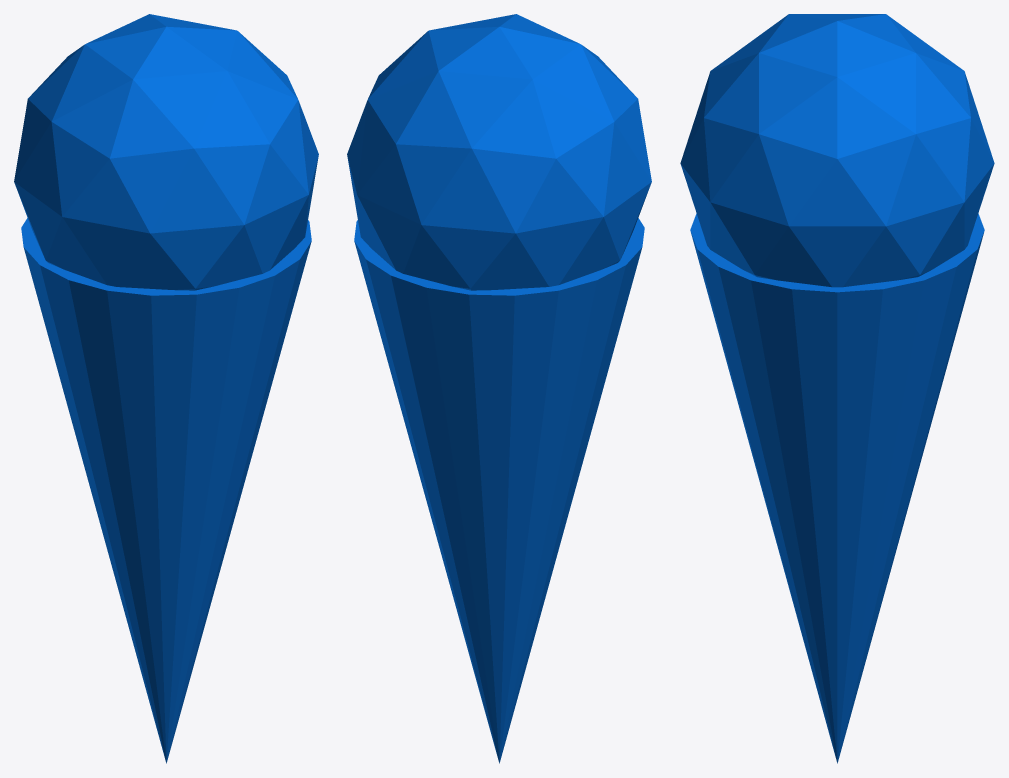
The model's file is marker.glb.
The picture shows the model from 3 angles, left to right: view 1: azimuth 30°, elevation 25°; view 2: azimuth 150°, elevation 25°; view 3: azimuth 270°, elevation 25°; orthographic projection.
Visible parts, largest first — view 1: tip, head; view 2: tip, head; view 3: head, tip.
Part boxes in pixels (<box>): tip: <box>21,218,311,763</box>; head: <box>14,14,318,290</box>; tip: <box>354,218,644,763</box>; head: <box>347,14,651,290</box>; head: <box>680,14,994,287</box>; tip: <box>690,213,984,763</box>.
Size of the model in its own units: 0.6087 by 1.67 by 0.64.
